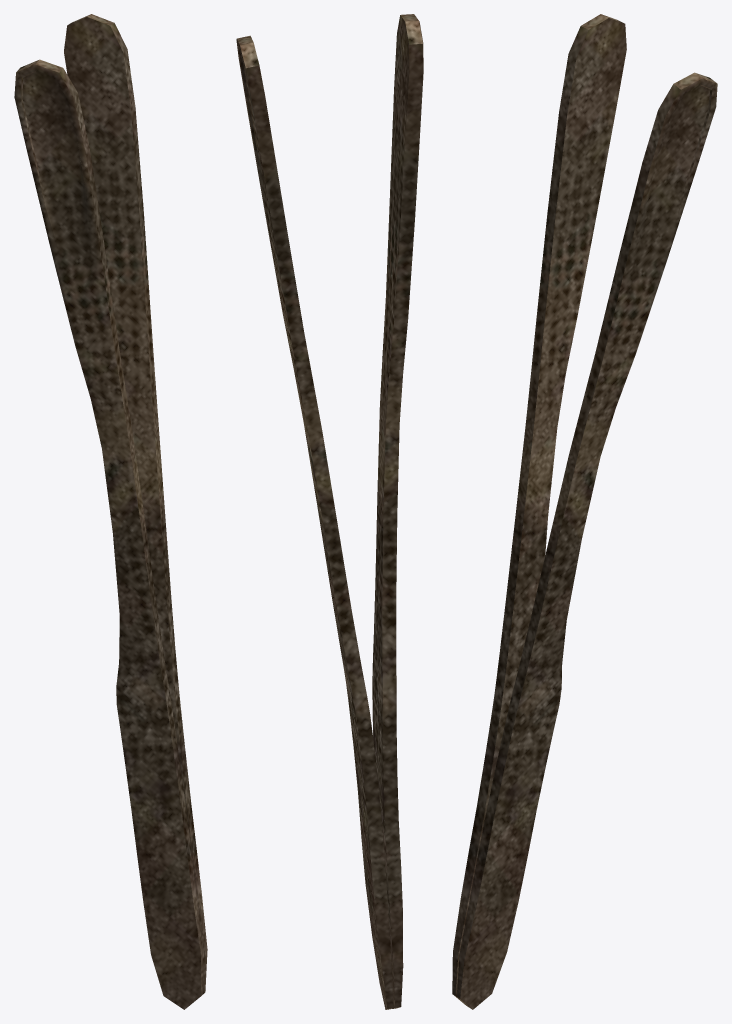
File: XD-现代茶具3.fbx
3 renders of one model, left to right at view 1: azimuth 30°, elevation 25°; view 2: azimuth 150°, elevation 25°; view 3: azimuth 270°, elevation 25°, orthographic. The views are drawn at different scales.
Parts seen in each view (by area): view 1: XD-现代茶具3; view 2: XD-现代茶具3; view 3: XD-现代茶具3.
Boxes of the visible parts, left/top/right/bottom form: XD-现代茶具3: left=14, top=14, right=207, bottom=1009; XD-现代茶具3: left=236, top=14, right=423, bottom=1009; XD-现代茶具3: left=452, top=14, right=717, bottom=1009.
Size of the model in its own units: 0.047 by 0.0769 by 0.3038.
